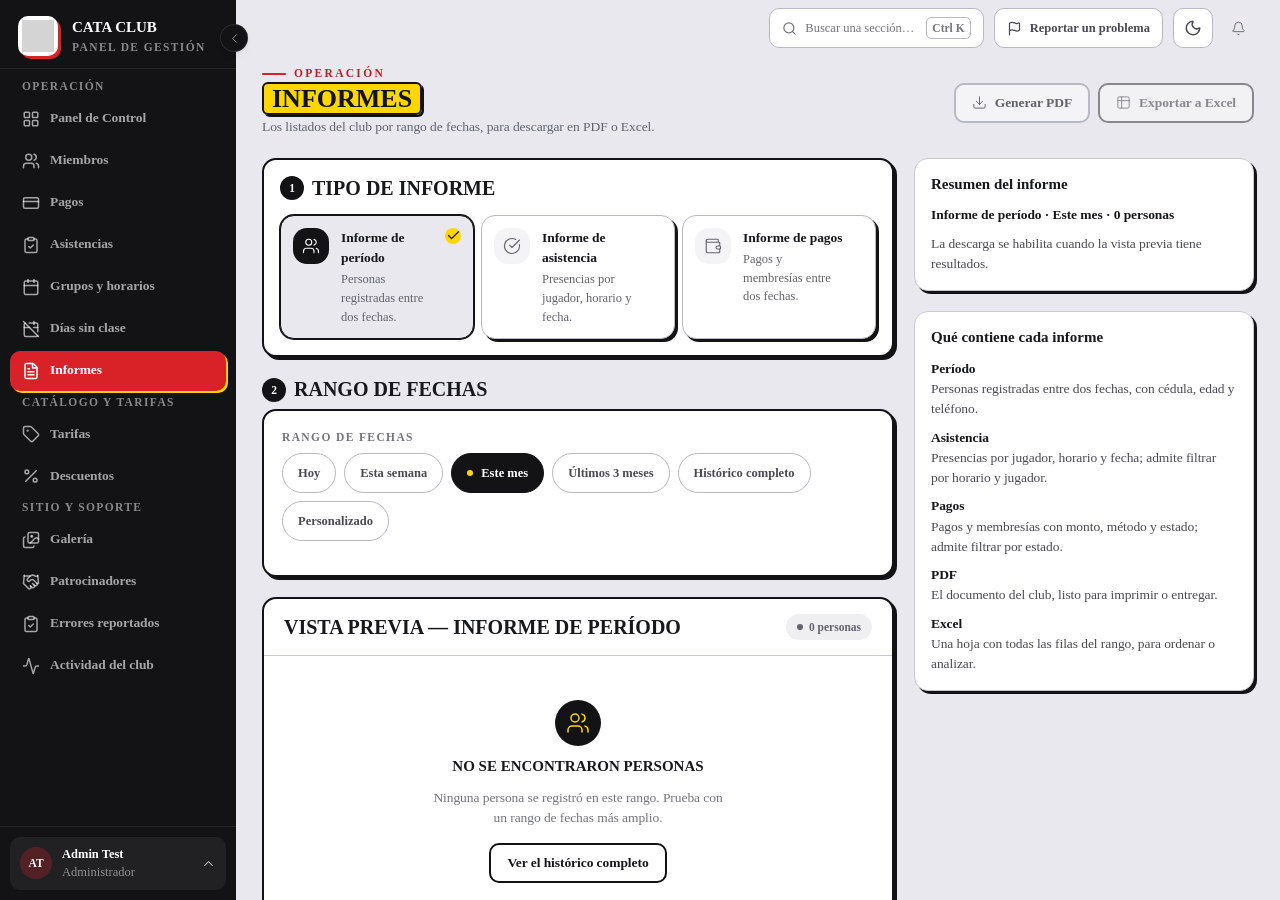
Test: ReportsPage — preview area › shows a named empty state when the range yields nothing
This screenshot has width=1280, height=900.
Click the button "Personalizado" at (336, 522), box [282,502,389,542]
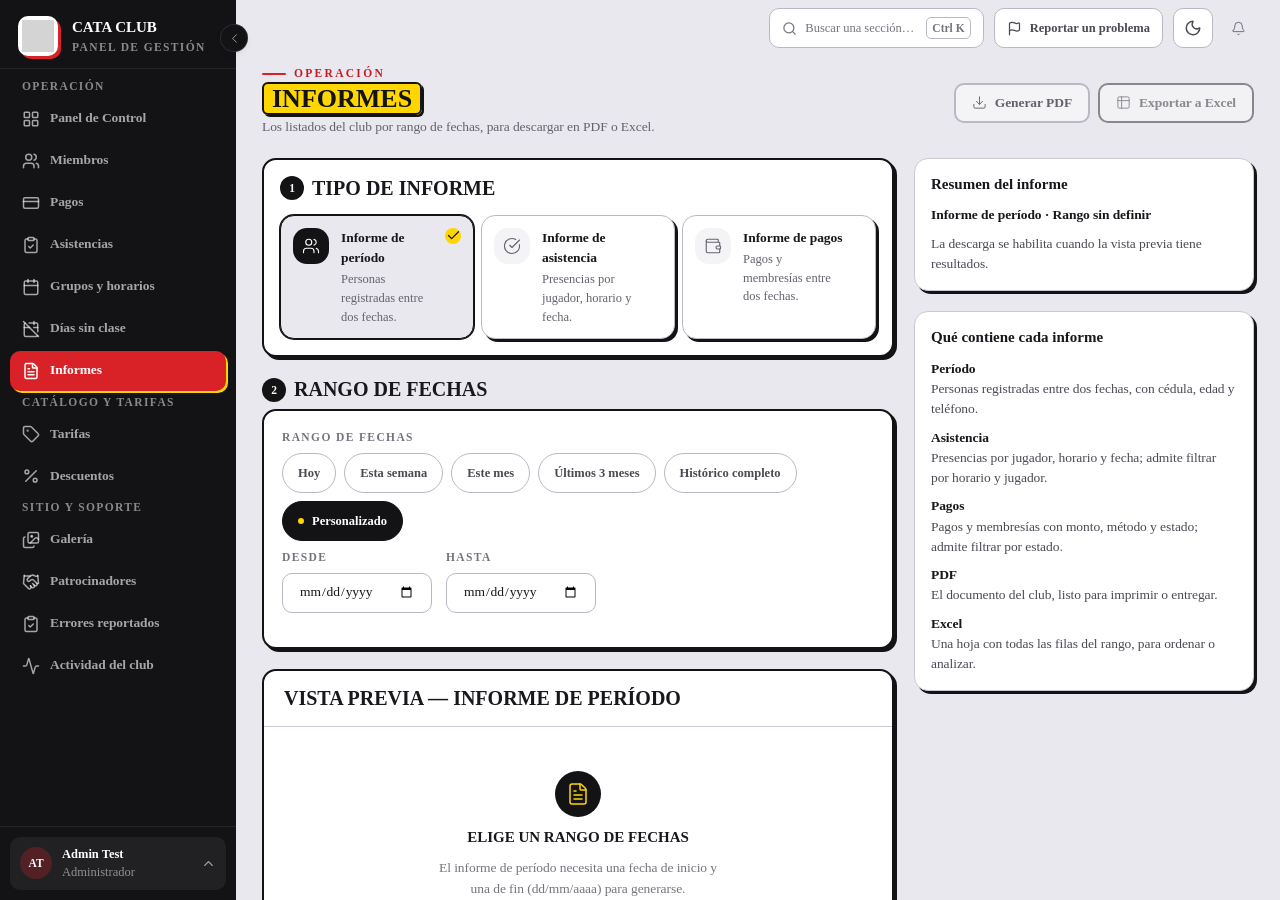
Type "2026-01-01" into the date field labelled "Desde" at (357, 593), box [282,573,432,613]
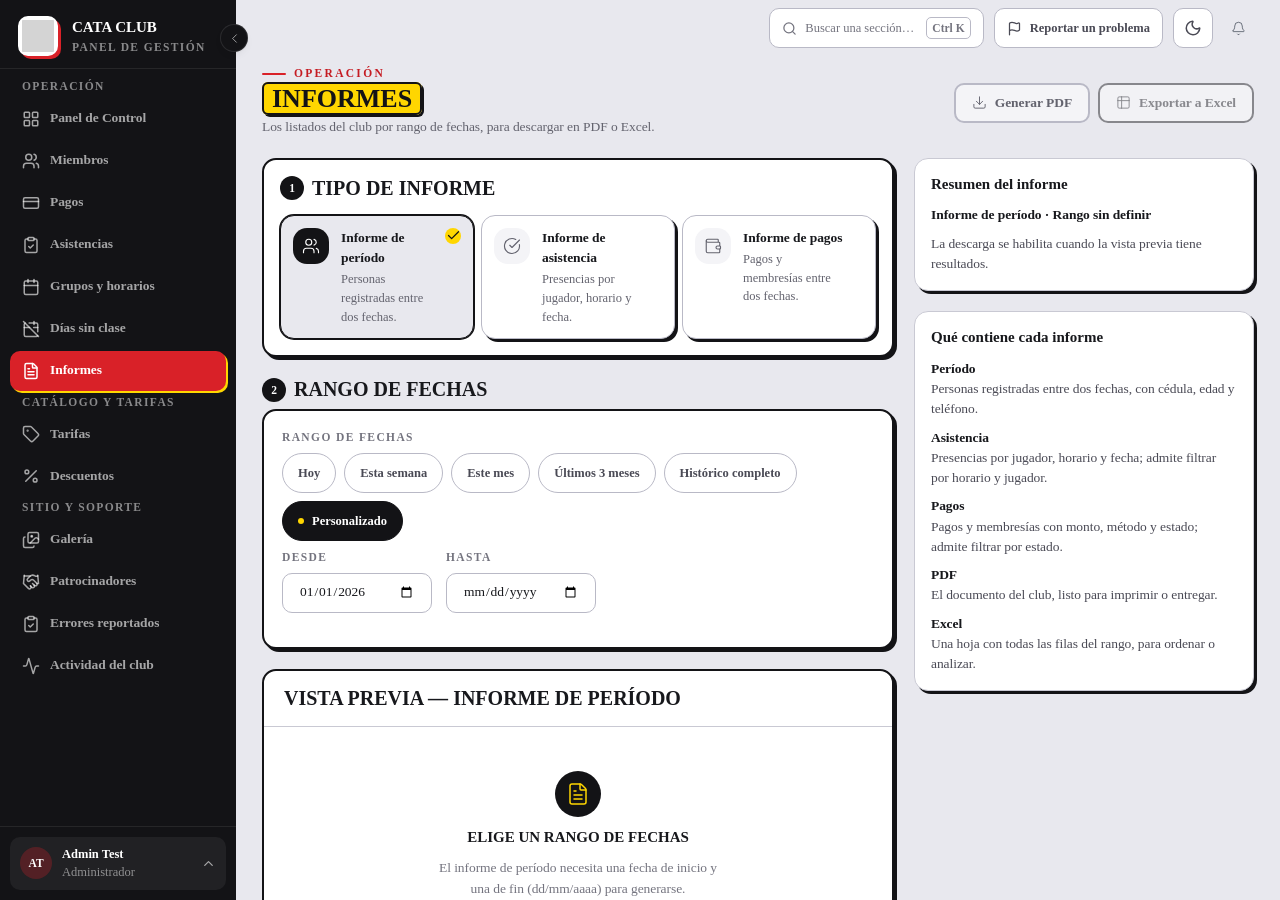
Type "2026-12-31" into the date field labelled "Hasta" at (521, 593), box [446,573,596,613]
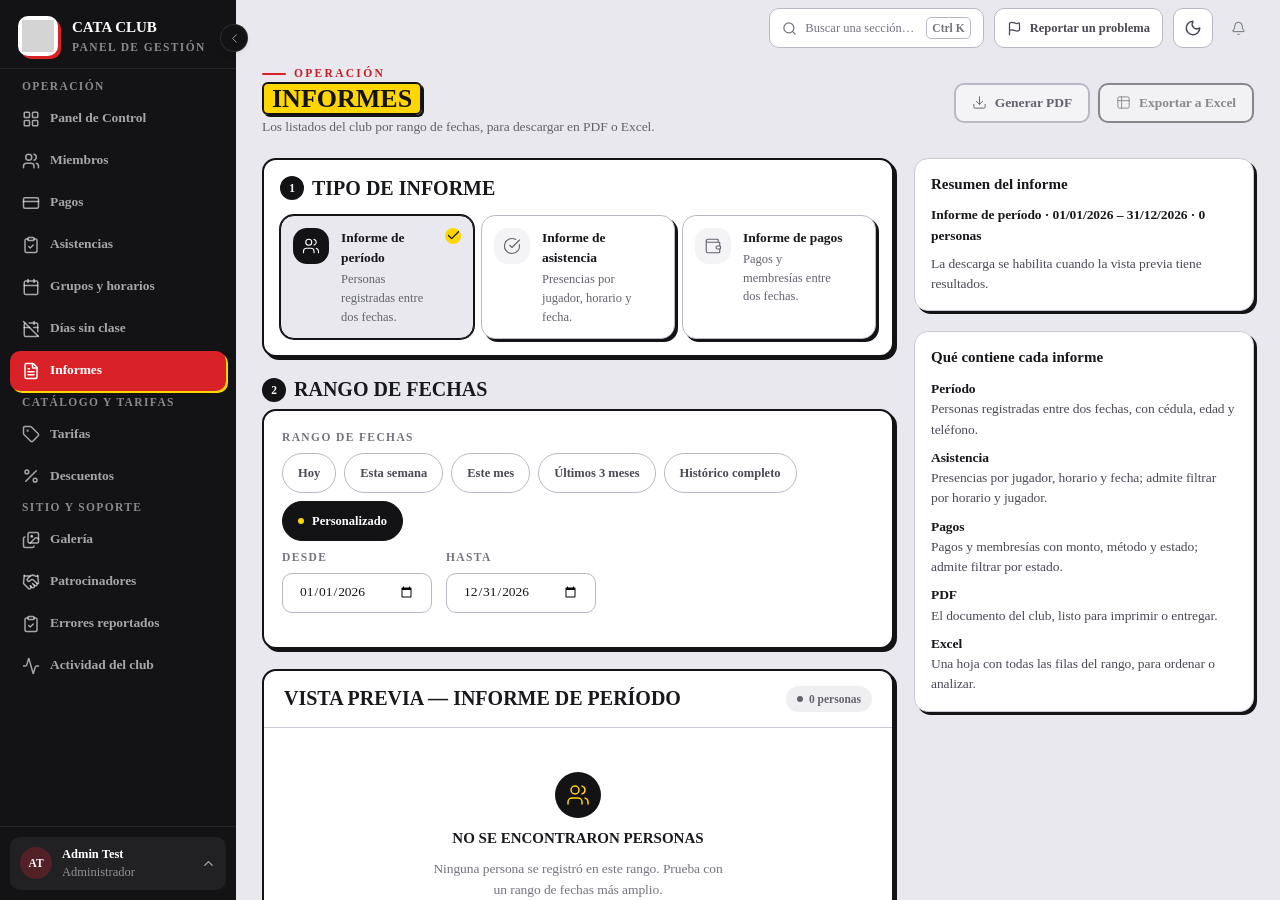
Expected: the text "No se encontraron personas" is shown, [452,828,704,849]
